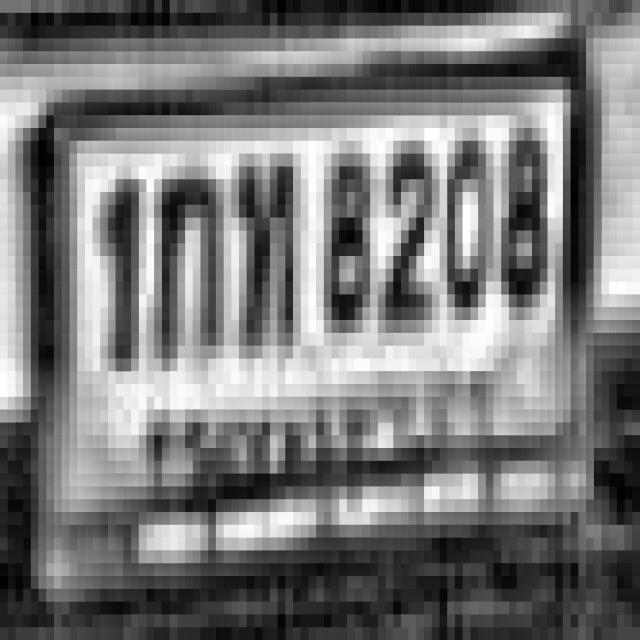license-plate: (31, 53, 593, 581)
